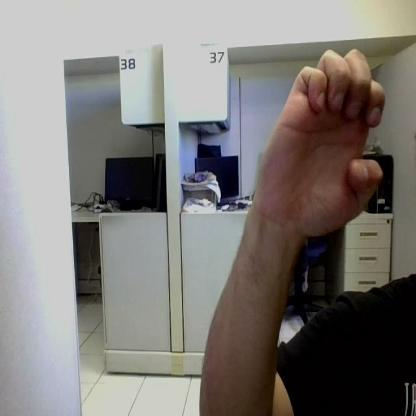E: (260, 50, 384, 236)
